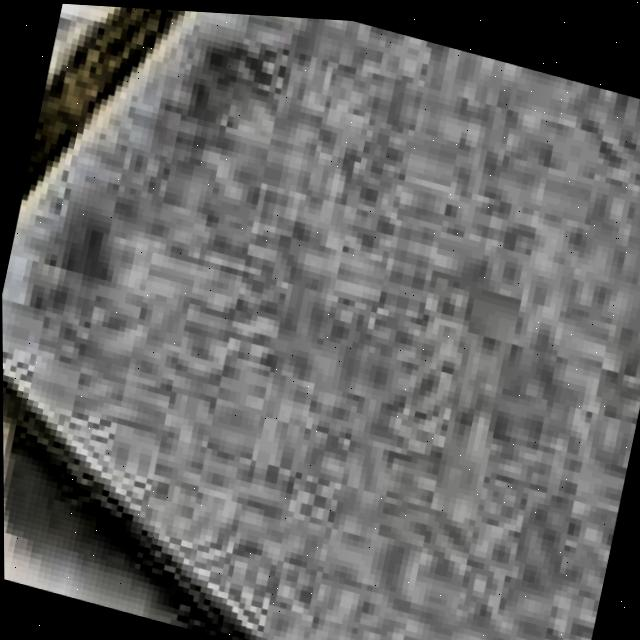paper: (2, 3, 640, 640)
